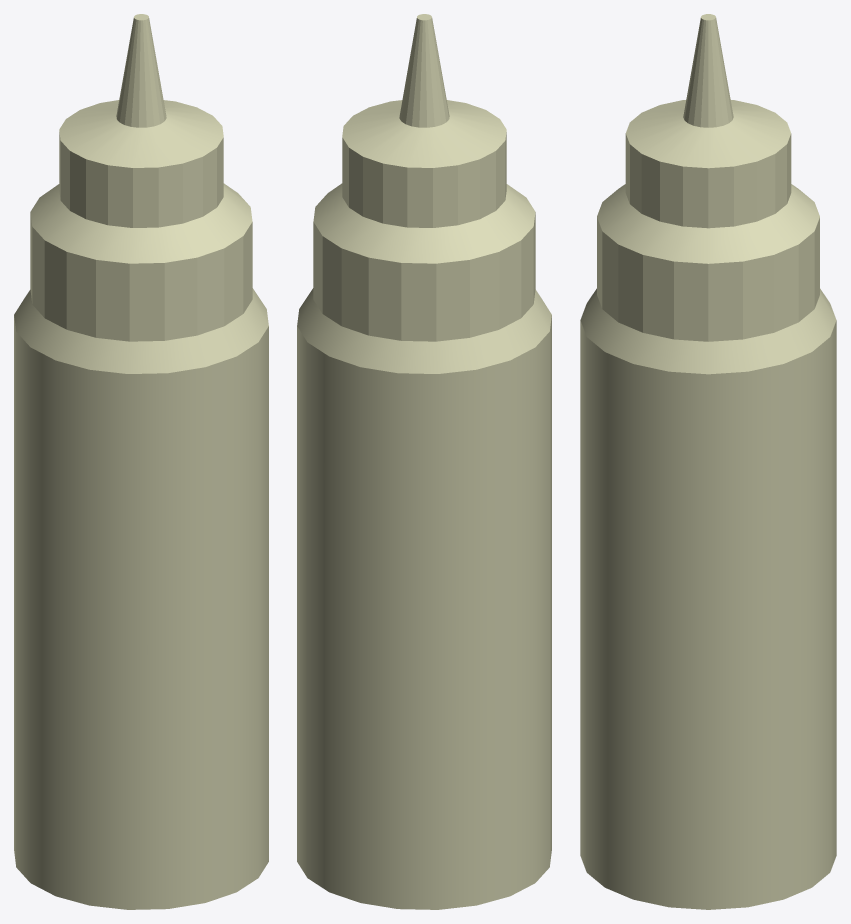
File: mayoBottle.fbx
The picture shows the model from 3 angles, left to right: view 1: azimuth 30°, elevation 25°; view 2: azimuth 150°, elevation 25°; view 3: azimuth 270°, elevation 25°; orthographic projection.
Parts seen in each view (by area): view 1: mayoBottle01; view 2: mayoBottle01; view 3: mayoBottle01.
Part boxes in pixels (box(x1,y1,x2,y2)): mayoBottle01: box(14, 14, 268, 909); mayoBottle01: box(297, 14, 551, 909); mayoBottle01: box(580, 14, 836, 909).
Size of the model in its own units: 13 by 46.97 by 13.
